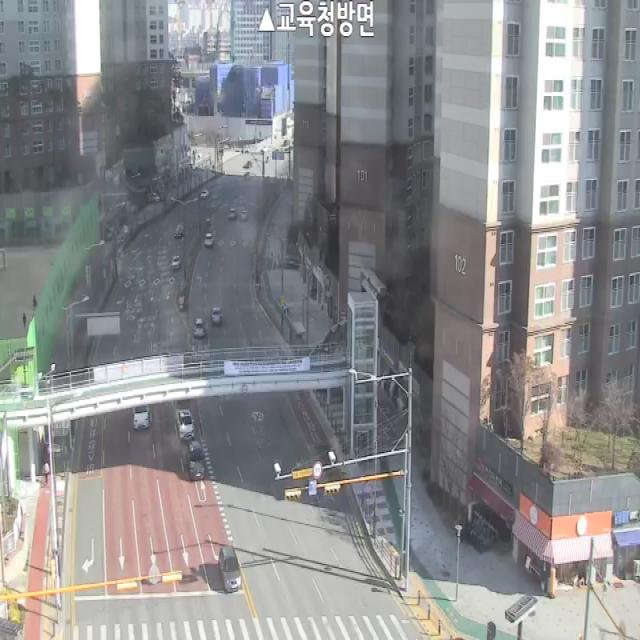Car: (219, 546, 241, 592), (188, 441, 205, 477), (178, 408, 195, 439), (134, 404, 149, 429), (194, 319, 205, 338), (212, 308, 222, 325), (174, 225, 184, 238), (172, 256, 181, 270), (228, 208, 238, 220), (204, 234, 213, 246), (240, 210, 248, 220), (201, 190, 209, 198)
